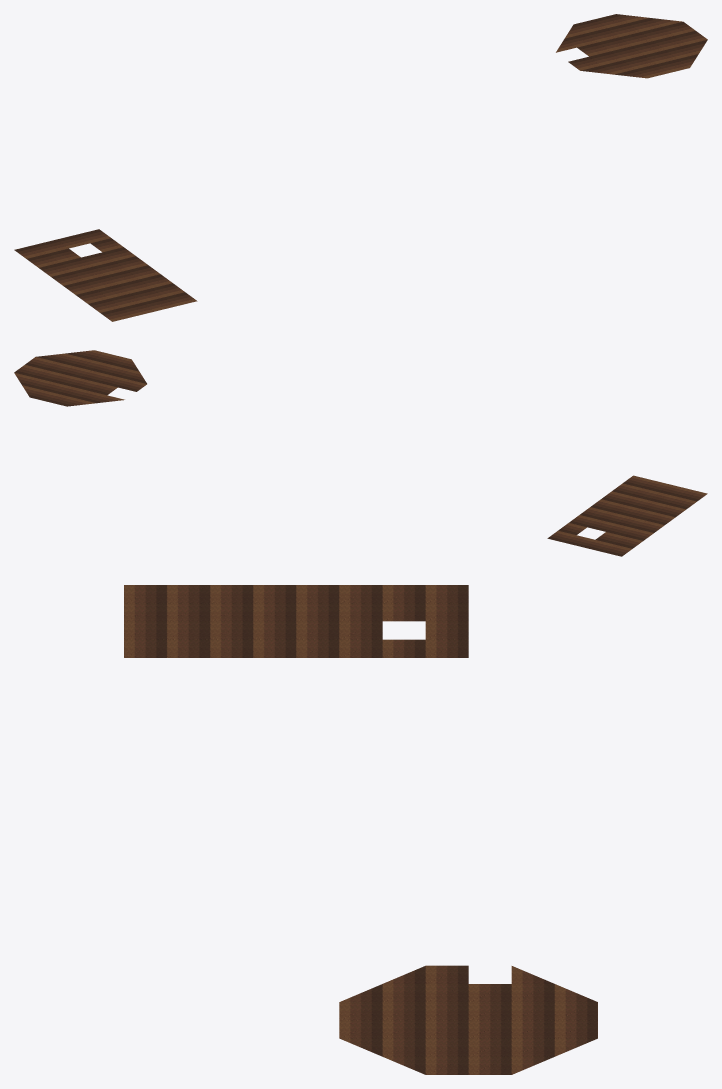
The picture shows the model from 3 angles, top to bottom: view 1: azimuth 30°, elevation 25°; view 2: azimuth 150°, elevation 25°; view 3: azimuth 270°, elevation 25°; orthographic projection. The views are drawn at different scales.
Parts seen in each view (by area): view 1: model; view 2: model; view 3: model.
Part boxes in pixels (box(x1,y1,x2,y2)): model: box(14, 14, 707, 321); model: box(14, 350, 707, 556); model: box(124, 585, 597, 1074).
Size of the model in its own units: 32 by 2.38 by 11.
Materials: 1 (1 with a texture image).
